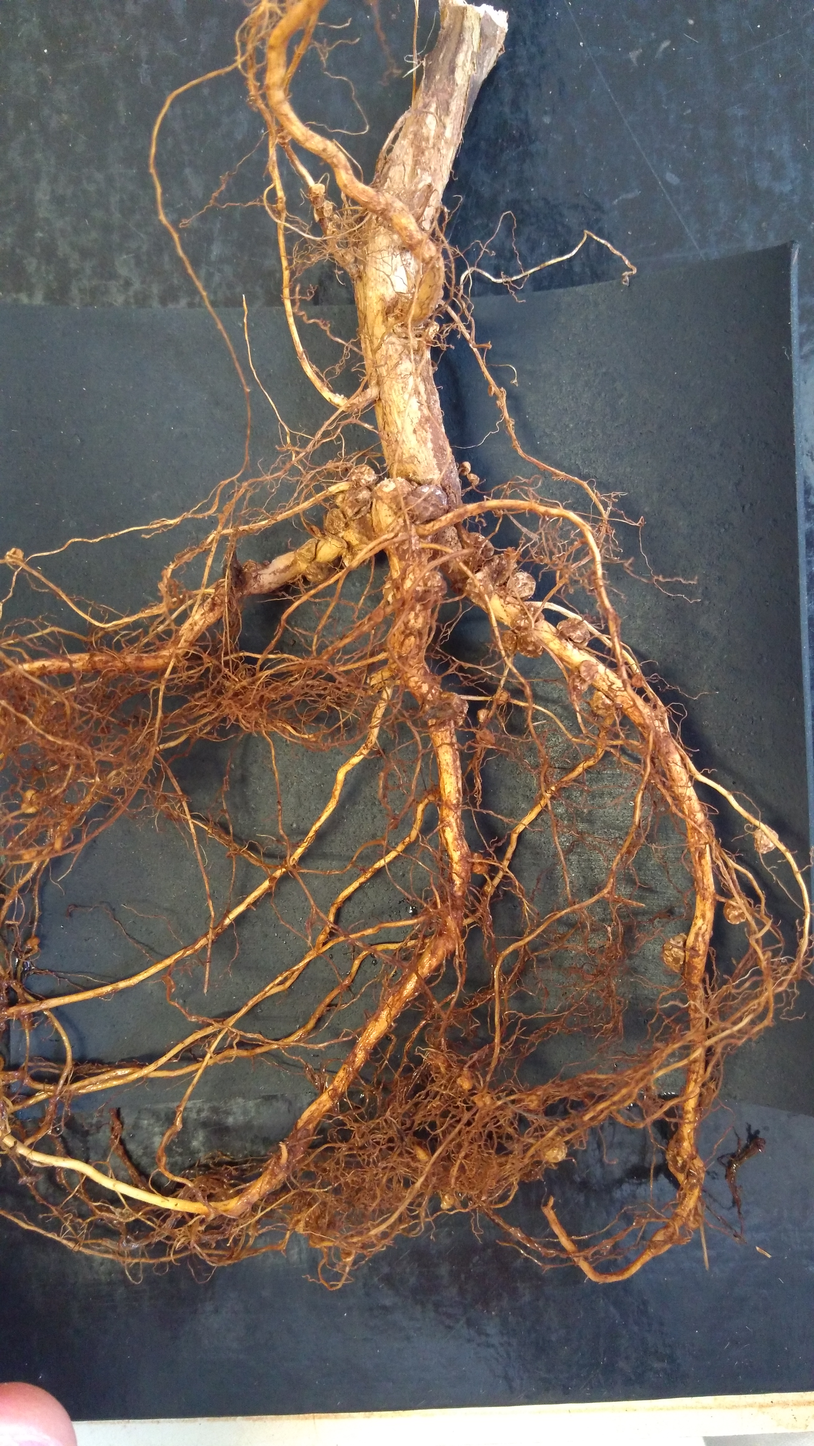nodule: (402, 483, 452, 524), (372, 477, 420, 513), (333, 486, 373, 521), (435, 690, 470, 729), (660, 930, 689, 976), (503, 568, 540, 604), (555, 614, 592, 649), (460, 531, 497, 562), (749, 823, 782, 856), (315, 535, 349, 566), (488, 549, 518, 583), (516, 629, 545, 662), (338, 548, 375, 573), (589, 690, 618, 720), (721, 893, 749, 924), (465, 571, 493, 601), (20, 787, 47, 817), (348, 462, 379, 488), (543, 1132, 569, 1163), (512, 605, 545, 629), (323, 507, 348, 534), (303, 563, 333, 585), (577, 657, 601, 684), (1, 542, 24, 569), (421, 570, 448, 593), (498, 627, 517, 659), (471, 727, 499, 747), (294, 538, 316, 563), (411, 1143, 431, 1163), (455, 1066, 473, 1088), (423, 319, 441, 341), (522, 1090, 541, 1109), (471, 860, 492, 877), (491, 689, 511, 706), (473, 1090, 492, 1107), (474, 708, 493, 724), (21, 847, 40, 863), (481, 881, 497, 898), (308, 182, 326, 197), (439, 1192, 455, 1208), (458, 459, 472, 476), (370, 607, 385, 622), (467, 472, 482, 486), (310, 524, 324, 539), (26, 935, 42, 947), (323, 200, 333, 216), (473, 852, 484, 861)
